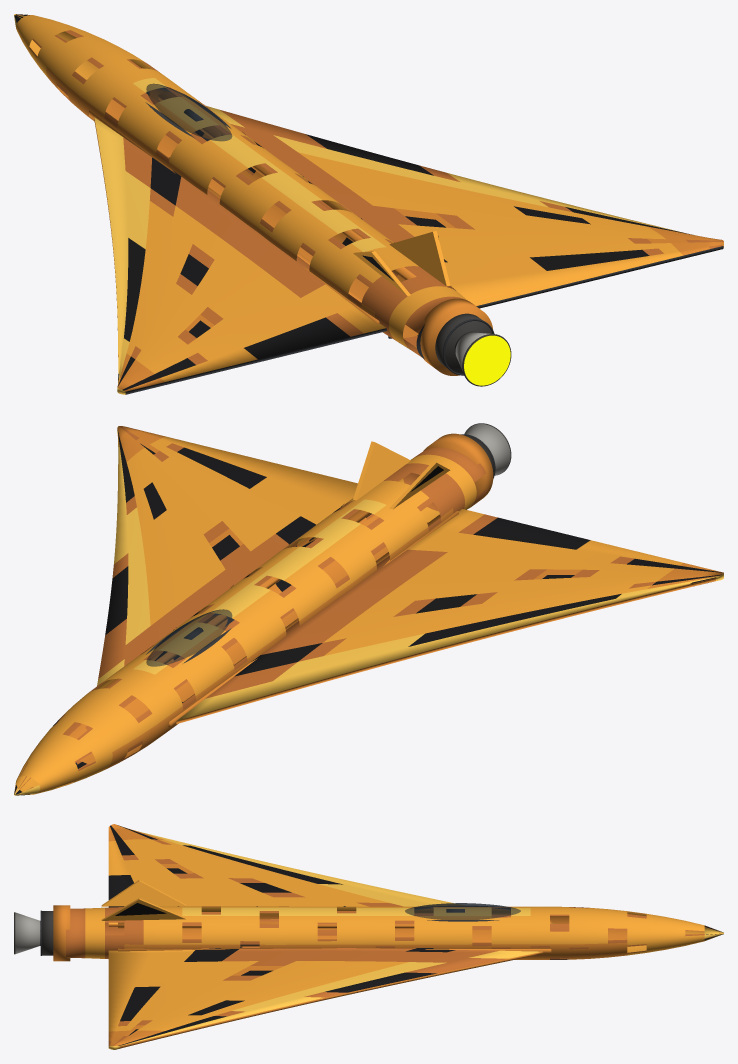
The model's file is Ship_TigerWing_1.glb.
The picture shows the model from 3 angles, top to bottom: view 1: azimuth 30°, elevation 25°; view 2: azimuth 150°, elevation 25°; view 3: azimuth 270°, elevation 25°; orthographic projection. The views are drawn at different scales.
Parts seen in each view (by area): view 1: Wing_Left_LongDeltaAerofoil_BakedPaint, Fuselage_OrganicEllipsoidTaperedBody_BakedPaint, Wing_Right_LongDeltaAerofoil_BakedPaint, CanopyGlass_LowInsetDome, EngineEmitter, AftCollar_IntegratedSingleEngineBand, TailFin_Right_CantedStabilizer, EngineBlock_AftDarkSingleEngineHousing, WingRoot_Left_EmbeddedShoulder, WingRoot_Right_EmbeddedShoulder; view 2: Wing_Left_LongDeltaAerofoil_BakedPaint, Fuselage_OrganicEllipsoidTaperedBody_BakedPaint, Wing_Right_LongDeltaAerofoil_BakedPaint, CanopyGlass_LowInsetDome, TailFin_Right_CantedStabilizer, AftCollar_IntegratedSingleEngineBand, EngineBell_Center_BroadBurnishedNozzle, WingRoot_Left_EmbeddedShoulder, WingRoot_Right_EmbeddedShoulder, TailFin_Left_CantedStabilizer; view 3: Fuselage_OrganicEllipsoidTaperedBody_BakedPaint, Wing_Right_LongDeltaAerofoil_BakedPaint, Wing_Left_LongDeltaAerofoil_BakedPaint, CanopyGlass_LowInsetDome, TailFin_Left_CantedStabilizer, AftCollar_IntegratedSingleEngineBand, EngineBell_Center_BroadBurnishedNozzle, TailFin_Right_CantedStabilizer, EngineBlock_AftDarkSingleEngineHousing, WingRoot_Right_EmbeddedShoulder.
Part boxes in pixels (x1=…): Wing_Left_LongDeltaAerofoil_BakedPaint: x1=94, y1=117, x2=387, y2=394; Fuselage_OrganicEllipsoidTaperedBody_BakedPaint: x1=14, y1=14, x2=467, y2=359; Wing_Right_LongDeltaAerofoil_BakedPaint: x1=161, y1=93, x2=723, y2=308; CanopyGlass_LowInsetDome: x1=146, y1=83, x2=232, y2=141; EngineEmitter: x1=464, y1=335, x2=510, y2=385; AftCollar_IntegratedSingleEngineBand: x1=418, y1=298, x2=492, y2=375; TailFin_Right_CantedStabilizer: x1=389, y1=231, x2=450, y2=286; EngineBlock_AftDarkSingleEngineHousing: x1=435, y1=313, x2=492, y2=373; WingRoot_Left_EmbeddedShoulder: x1=89, y1=110, x2=379, y2=323; WingRoot_Right_EmbeddedShoulder: x1=158, y1=92, x2=416, y2=279; Wing_Left_LongDeltaAerofoil_BakedPaint: x1=176, y1=509, x2=723, y2=724; Fuselage_OrganicEllipsoidTaperedBody_BakedPaint: x1=14, y1=447, x2=488, y2=795; Wing_Right_LongDeltaAerofoil_BakedPaint: x1=97, y1=426, x2=357, y2=685; CanopyGlass_LowInsetDome: x1=146, y1=609, x2=232, y2=666; TailFin_Right_CantedStabilizer: x1=353, y1=441, x2=410, y2=500; AftCollar_IntegratedSingleEngineBand: x1=418, y1=433, x2=493, y2=508; EngineBell_Center_BroadBurnishedNozzle: x1=464, y1=424, x2=510, y2=475; WingRoot_Left_EmbeddedShoulder: x1=168, y1=511, x2=458, y2=727; WingRoot_Right_EmbeddedShoulder: x1=150, y1=510, x2=370, y2=663; TailFin_Left_CantedStabilizer: x1=389, y1=462, x2=450, y2=509; Fuselage_OrganicEllipsoidTaperedBody_BakedPaint: x1=66, y1=906, x2=723, y2=959; Wing_Right_LongDeltaAerofoil_BakedPaint: x1=108, y1=946, x2=543, y2=1049; Wing_Left_LongDeltaAerofoil_BakedPaint: x1=108, y1=824, x2=553, y2=926; CanopyGlass_LowInsetDome: x1=405, y1=903, x2=520, y2=920; TailFin_Left_CantedStabilizer: x1=101, y1=880, x2=186, y2=906; AftCollar_IntegratedSingleEngineBand: x1=53, y1=905, x2=70, y2=961; EngineBell_Center_BroadBurnishedNozzle: x1=15, y1=912, x2=40, y2=953; TailFin_Right_CantedStabilizer: x1=101, y1=898, x2=186, y2=920; EngineBlock_AftDarkSingleEngineHousing: x1=42, y1=911, x2=53, y2=955; WingRoot_Right_EmbeddedShoulder: x1=118, y1=945, x2=551, y2=953.
Size of the model in its own units: 6.87 by 1.03 by 9.29.
